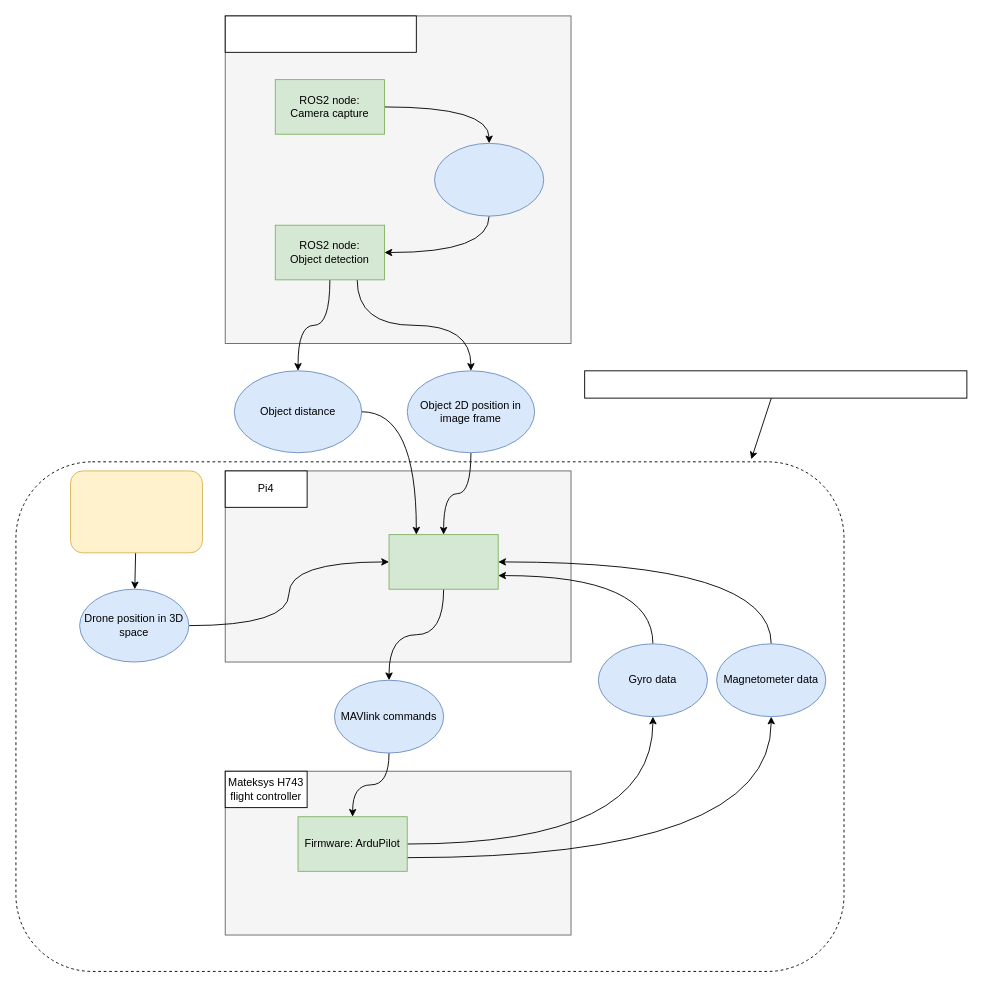
This 983x987 diagram has some shape labels left out. The centre of each missing label's shape, as x and y in pixels:
"Image data" belongs at point (489, 179).
"Image processing HW config #X" belongs at point (320, 33).
"Qualisys tracking system (Simulates GPS and altimeter)" belongs at point (136, 511).
"ROS2 node: Follow algorithm" belongs at point (443, 561).
"Universal test setup for distributed architectures" belongs at point (775, 384).
